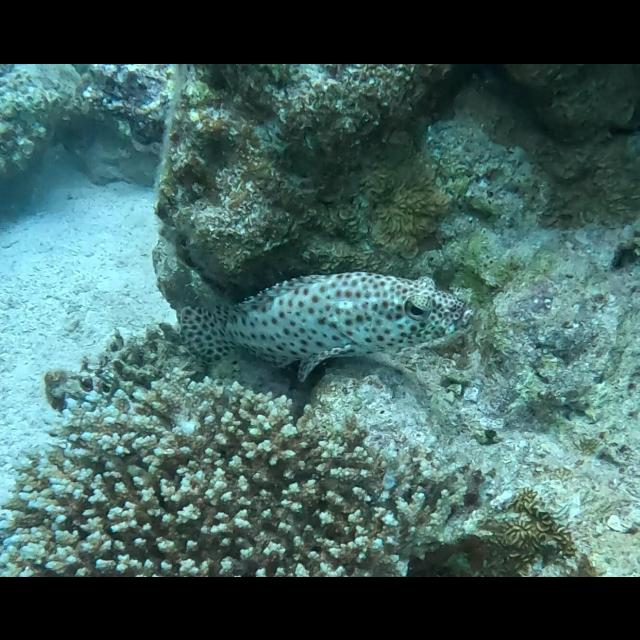Groupers: (175, 268, 479, 384)
